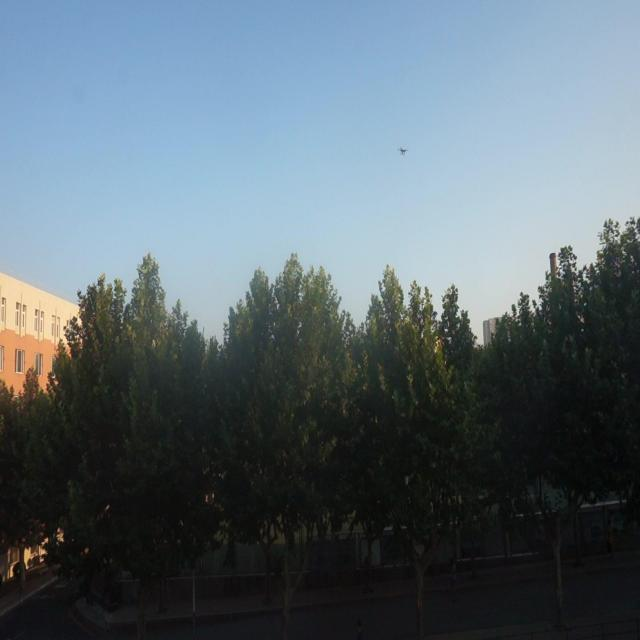UAV: (398, 146, 408, 156)
